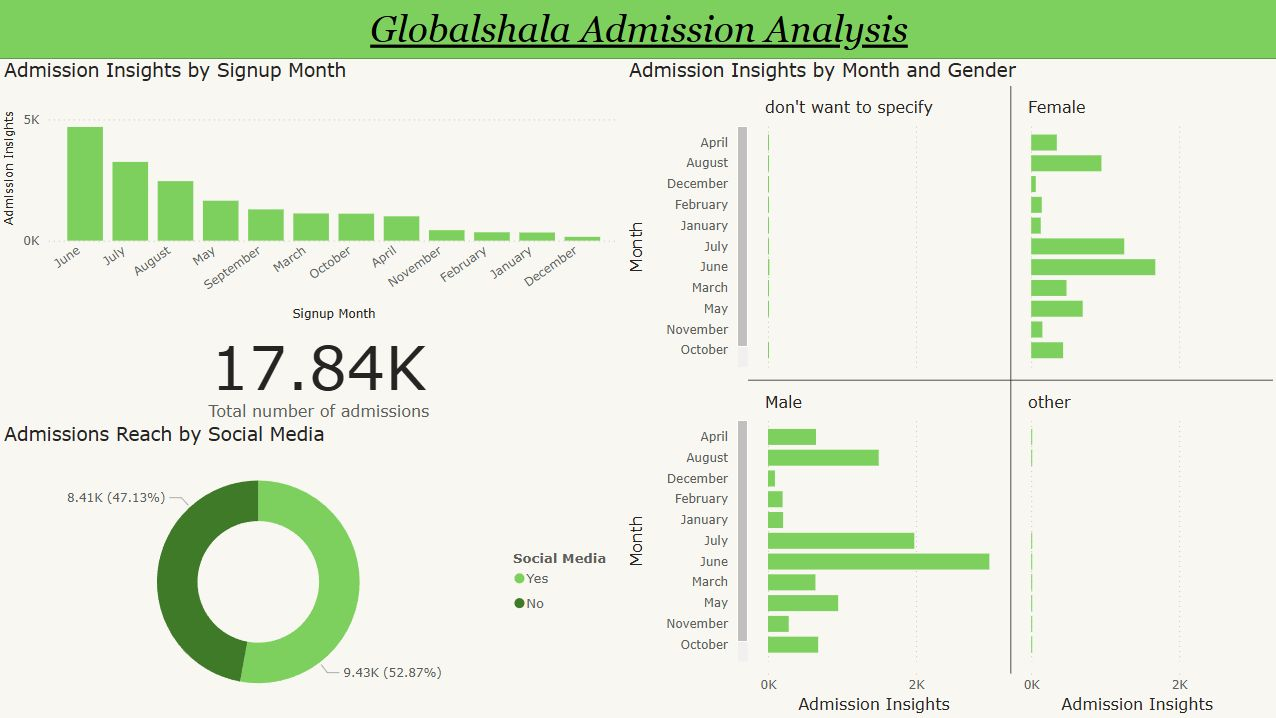

What the dashboard file says about the page in this screenshot:
{"tool":"powerbi","page":{"name":"Page 1","canvas":[1280,720],"ordinal":0},"visuals":[{"type":"columnChart","fields":{"Y":["CountNonNull(Sheet1.Degree)"],"Category":["Sheet1.Sign up Month"]},"box":[0,60,625,266.2],"z":0},{"type":"donutChart","fields":{"Category":["Sheet1.From Social Media"],"Y":["CountNonNull(Sheet1.Degree)"]},"box":[0,423.8,625,296.2],"z":1000},{"type":"clusteredBarChart","fields":{"Rows":["Sheet1.Gender"],"Y":["CountNonNull(Sheet1.Degree)"],"Category":["Sheet1.Sign up Month"]},"box":[625,60,655,660],"z":2000},{"type":"card","fields":{"Values":["CountNonNull(Sheet1.Gender)"]},"box":[0,326.2,640,97.5],"z":3000},{"type":"shape","box":[0,0,1280,60],"z":4000}]}

Visuals, with their boxes in screenshot pixels (x1, y1, x2, y2), scaled from the page's 1280x720 canvas onto the 1276x718 screenshot:
columnChart - CountNonNull(Sheet1.Degree) x Sheet1.Sign up Month: select_region(0, 60, 623, 325)
donutChart - Sheet1.From Social Media x CountNonNull(Sheet1.Degree): select_region(0, 423, 623, 717)
clusteredBarChart - Sheet1.Gender x CountNonNull(Sheet1.Degree): select_region(623, 60, 1275, 717)
card - CountNonNull(Sheet1.Gender): select_region(0, 325, 638, 423)
shape: select_region(0, 0, 1275, 60)
